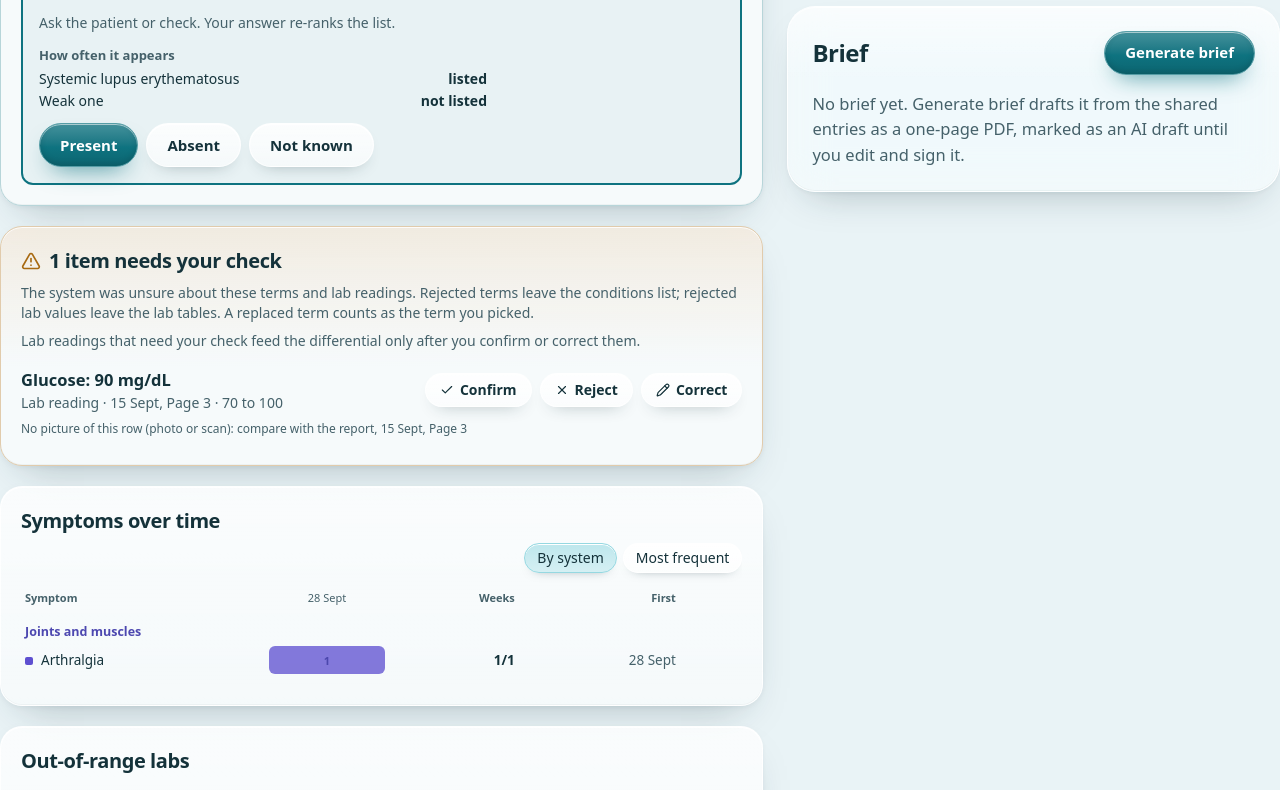
clinic package page › a low-confidence lab reading waits for the clinician and a rejected one leaves the tables
(page scrolled)
Expected: the element with test id "needs-check" shows "Glucose: 90 mg/dL", [0,226,763,466]
Click the button "Reject".
click(586, 390)  # box [540,373,633,407]
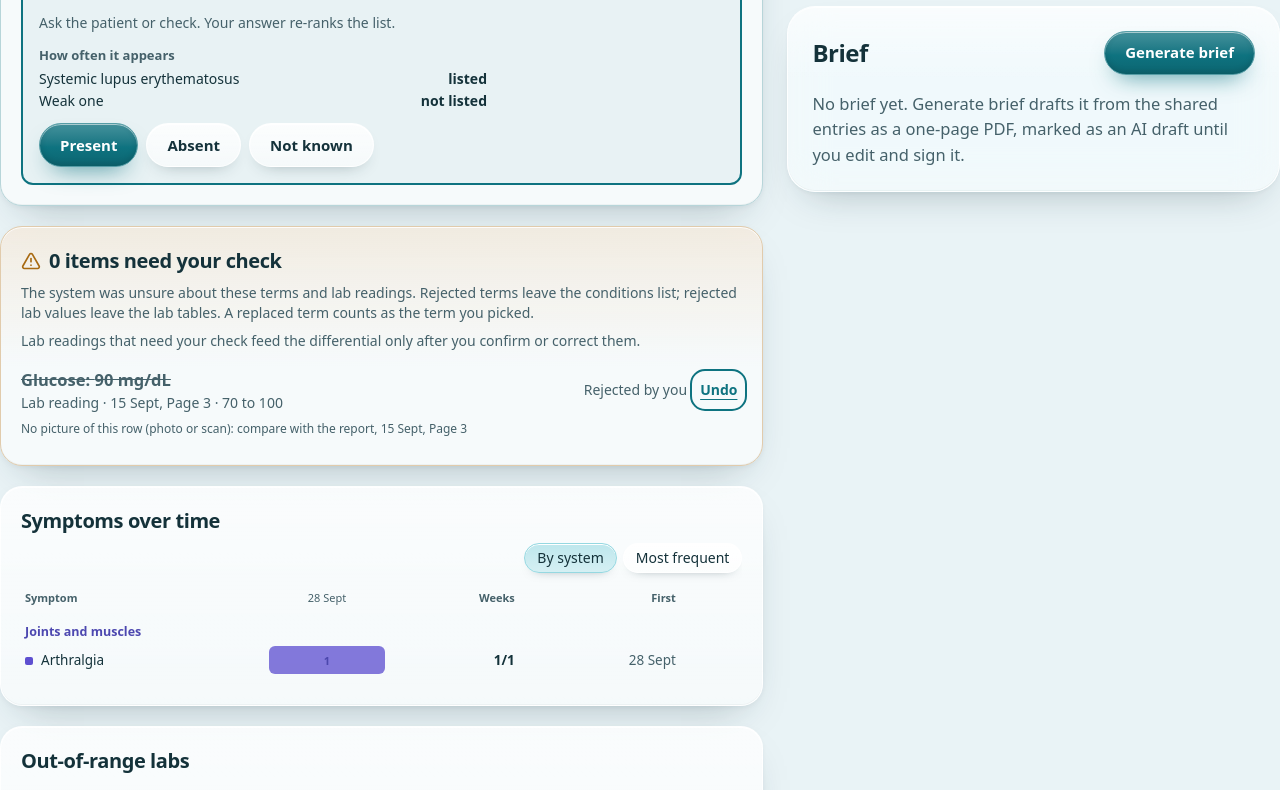
Result: the text "Rejected by you" is shown at [584,380,687,400]
